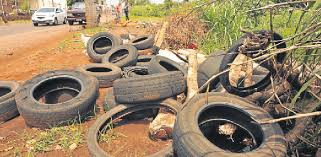tire: (172, 96, 291, 157), (85, 96, 190, 157), (221, 25, 287, 96), (15, 69, 98, 125), (108, 71, 193, 104), (147, 54, 195, 90), (86, 31, 121, 64), (1, 78, 24, 122), (78, 64, 122, 87), (102, 43, 139, 70), (130, 34, 156, 48)
